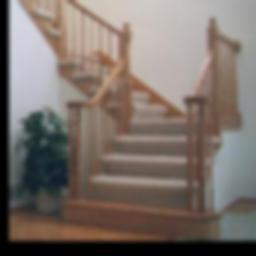Escaleras: (62, 0, 243, 233)
Matera: (21, 107, 68, 217)
